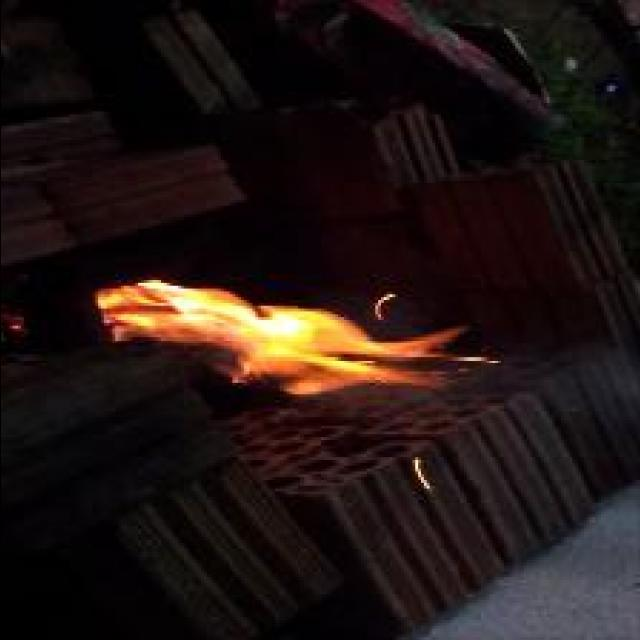Fire: (96, 280, 498, 397)
